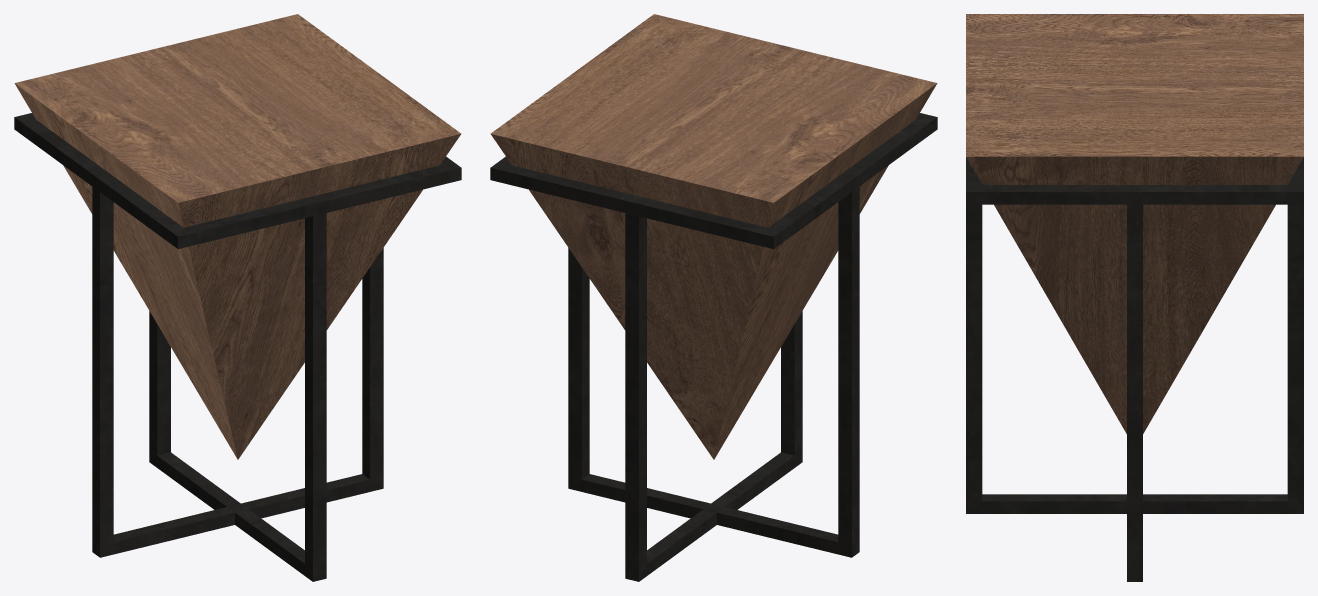
The model's file is table-high.glb.
3 renders of one model, left to right at view 1: azimuth 30°, elevation 25°; view 2: azimuth 150°, elevation 25°; view 3: azimuth 270°, elevation 25°, orthographic. The views are drawn at different scales.
Visible parts, largest first — view 1: TableMesh; view 2: TableMesh; view 3: TableMesh.
Boxes of the visible parts, <box> form: TableMesh: <box>14,14,461,581</box>; TableMesh: <box>490,14,937,581</box>; TableMesh: <box>966,14,1303,581</box>.
Bounding box in the file's own units: 0.4572 × 0.635 × 0.4572.
Materials: 1 (1 with a texture image).
